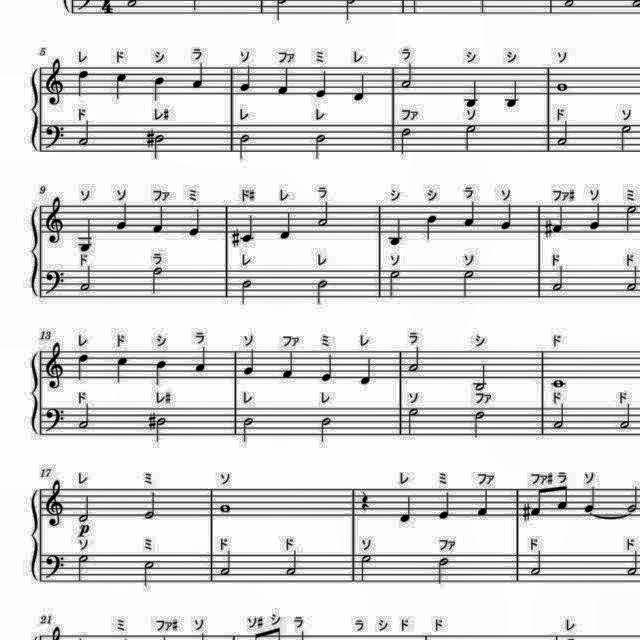Bass-clef: (44, 266, 68, 300), (43, 121, 67, 153), (43, 552, 67, 584), (44, 406, 68, 434)
Diez: (144, 124, 156, 152), (230, 227, 242, 251), (520, 502, 532, 526), (147, 411, 157, 433), (543, 220, 553, 240)
Eighth-note: (530, 487, 548, 518), (554, 483, 570, 512)
Full-note: (547, 375, 569, 393), (555, 77, 573, 95), (215, 502, 233, 518)
Half-note: (471, 363, 493, 393), (316, 410, 334, 446), (460, 266, 478, 302), (74, 492, 94, 524), (148, 264, 168, 296), (616, 124, 636, 156), (72, 551, 90, 585), (313, 274, 331, 308), (464, 122, 481, 158), (554, 119, 574, 149), (404, 408, 422, 440), (388, 268, 404, 304), (621, 204, 639, 236), (399, 128, 417, 160), (399, 59, 416, 92), (143, 491, 161, 522), (435, 554, 451, 588), (237, 277, 255, 307), (217, 548, 233, 580), (528, 548, 544, 580), (624, 480, 640, 512), (472, 408, 488, 440), (139, 560, 157, 588), (283, 550, 301, 578), (76, 402, 94, 430), (406, 346, 424, 374), (76, 120, 94, 148), (624, 548, 640, 578), (78, 264, 94, 294), (624, 265, 640, 295), (154, 134, 170, 164), (237, 132, 253, 162), (154, 413, 168, 447), (314, 200, 331, 228), (618, 402, 634, 431), (360, 552, 374, 584), (312, 134, 328, 162), (551, 264, 565, 294), (242, 415, 254, 449), (552, 404, 566, 432)
Quarter-note: (76, 215, 96, 255), (501, 75, 523, 108), (276, 208, 296, 242), (274, 65, 294, 98), (387, 216, 407, 248), (111, 71, 129, 105), (75, 350, 92, 386), (461, 78, 479, 110), (150, 202, 166, 238), (279, 350, 297, 382), (76, 68, 92, 102), (114, 201, 130, 235), (319, 351, 336, 383), (357, 355, 375, 385), (397, 494, 415, 524), (474, 487, 492, 517), (192, 59, 208, 92), (152, 74, 168, 106), (238, 64, 254, 96), (312, 70, 328, 102), (240, 212, 256, 244), (498, 202, 514, 234), (153, 357, 169, 389), (437, 490, 453, 522), (187, 206, 201, 242), (461, 200, 479, 228), (424, 211, 438, 245), (583, 482, 597, 516), (552, 206, 566, 238), (116, 356, 130, 388), (242, 348, 256, 380), (588, 203, 602, 233), (354, 72, 366, 105), (194, 343, 206, 375)
Quarter-rest: (359, 487, 373, 513)
Treble-clef: (42, 194, 70, 253), (43, 56, 69, 110), (44, 339, 68, 395), (44, 478, 68, 530)
